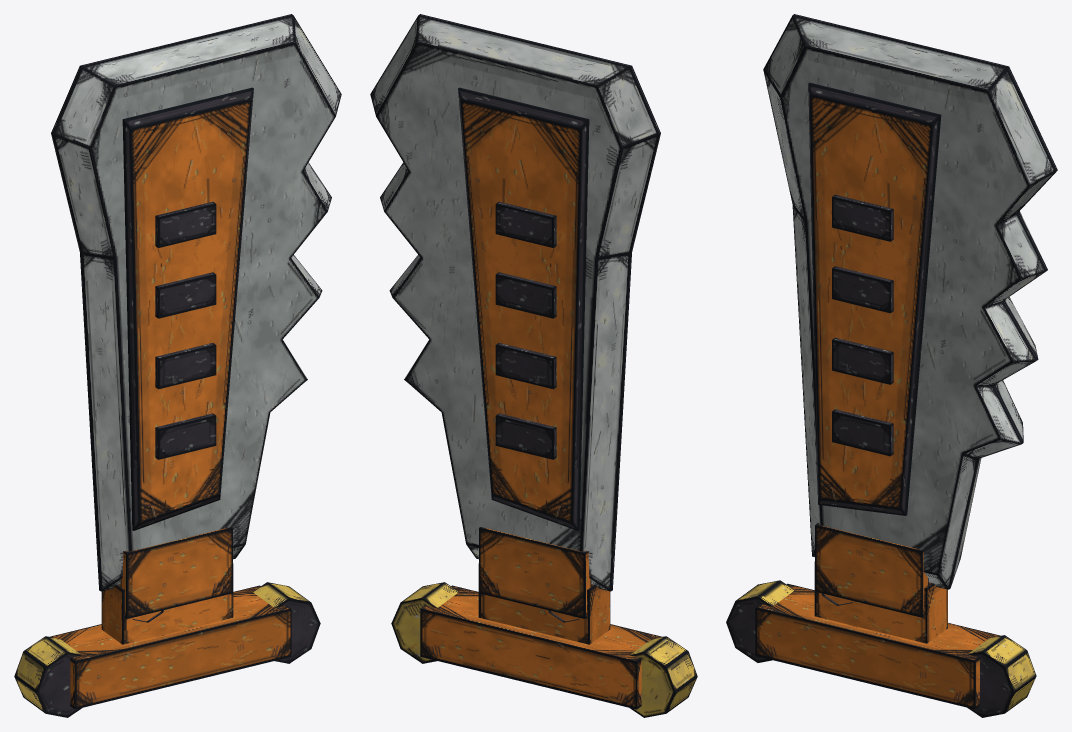
File: blade_torgue.glb
3 renders of one model, left to right at view 1: azimuth 30°, elevation 25°; view 2: azimuth 150°, elevation 25°; view 3: azimuth 330°, elevation 25°, orthographic.
Parts seen in each view (by area): view 1: blade_torgue; view 2: blade_torgue; view 3: blade_torgue.
Part boxes in pixels (bbox=[...]): blade_torgue: bbox=[14, 14, 341, 717]; blade_torgue: bbox=[370, 14, 697, 717]; blade_torgue: bbox=[726, 14, 1057, 717].
Size of the model in its own units: 0.655 by 1.27 by 0.1425.
Materials: 1 (1 with a texture image).
